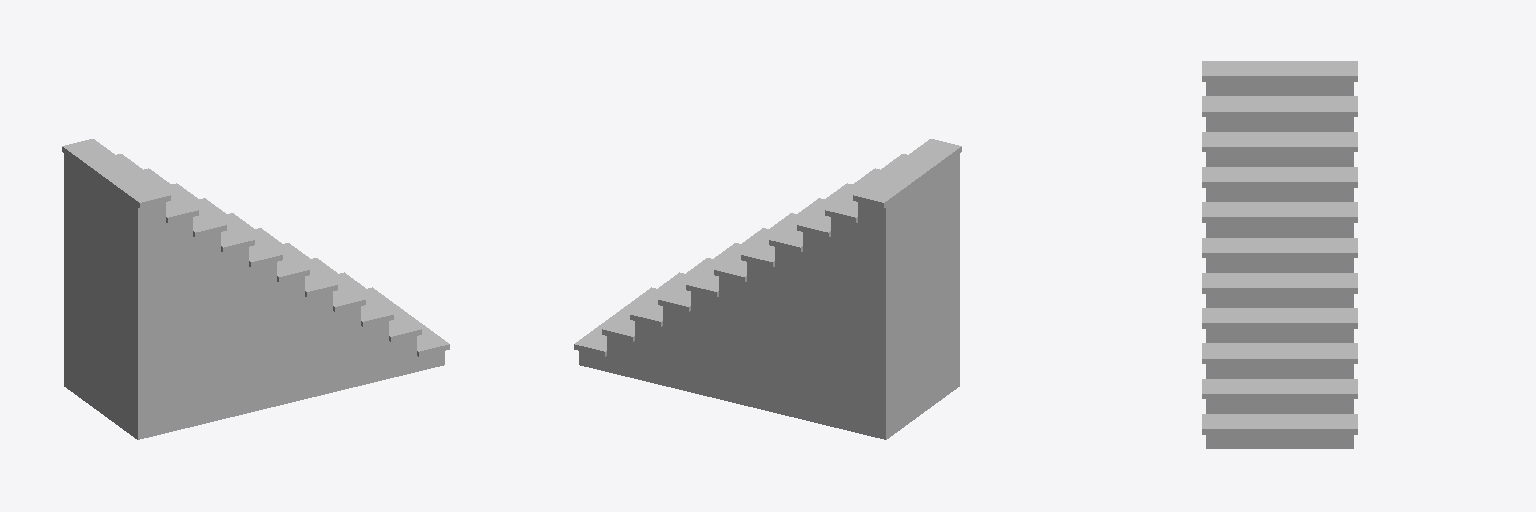
Rendered from stairs.obj.
3 renders of one model, left to right at view 1: azimuth 30°, elevation 25°; view 2: azimuth 150°, elevation 25°; view 3: azimuth 270°, elevation 25°, orthographic.
Parts seen in each view (by area): view 1: stairs; view 2: stairs; view 3: stairs.
Boxes of the visible parts, <box> form: stairs: <box>62,139,449,439</box>; stairs: <box>574,139,961,439</box>; stairs: <box>1202,61,1357,448</box>.
Size of the model in its own units: 1.82 by 1.34 by 0.79.